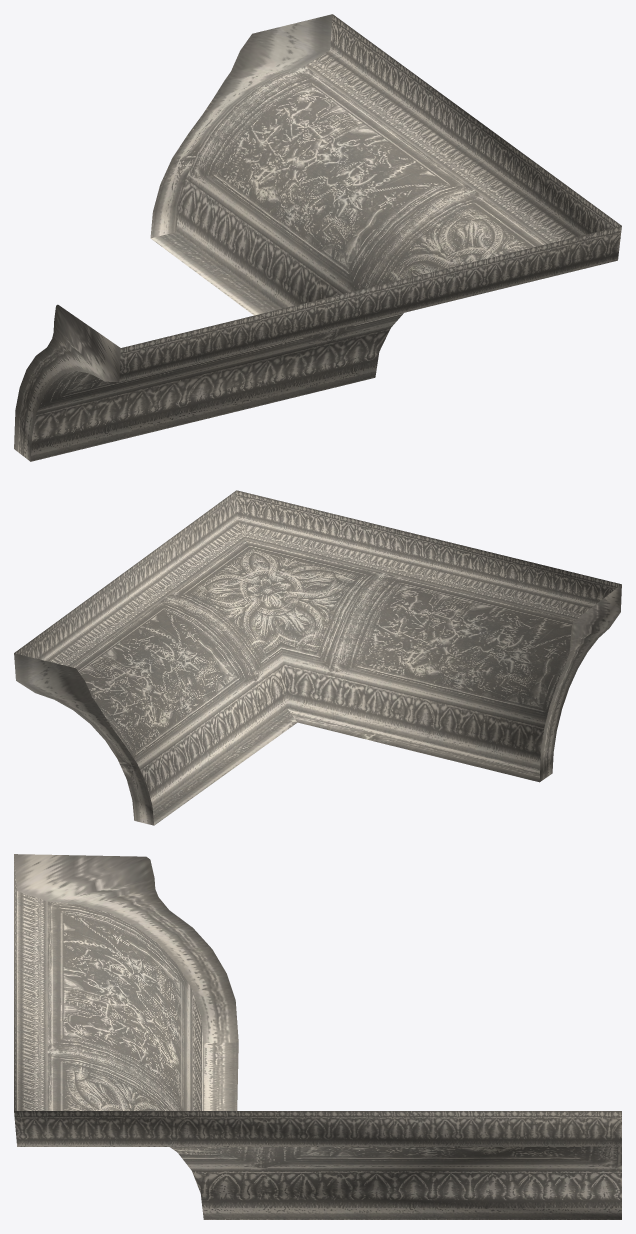
Rendered from CeilingCurvedCorner.fbx.
3 renders of one model, top to bottom at view 1: azimuth 30°, elevation 25°; view 2: azimuth 150°, elevation 25°; view 3: azimuth 270°, elevation 25°, orthographic. The views are drawn at different scales.
Parts seen in each view (by area): view 1: CeilingRoundCorner; view 2: CeilingRoundCorner; view 3: CeilingRoundCorner.
Part boxes in pixels (bbox=[...]): CeilingRoundCorner: bbox=[14, 14, 621, 461]; CeilingRoundCorner: bbox=[14, 490, 621, 825]; CeilingRoundCorner: bbox=[14, 854, 621, 1219].
Size of the model in its own units: 390 by 134 by 390.
